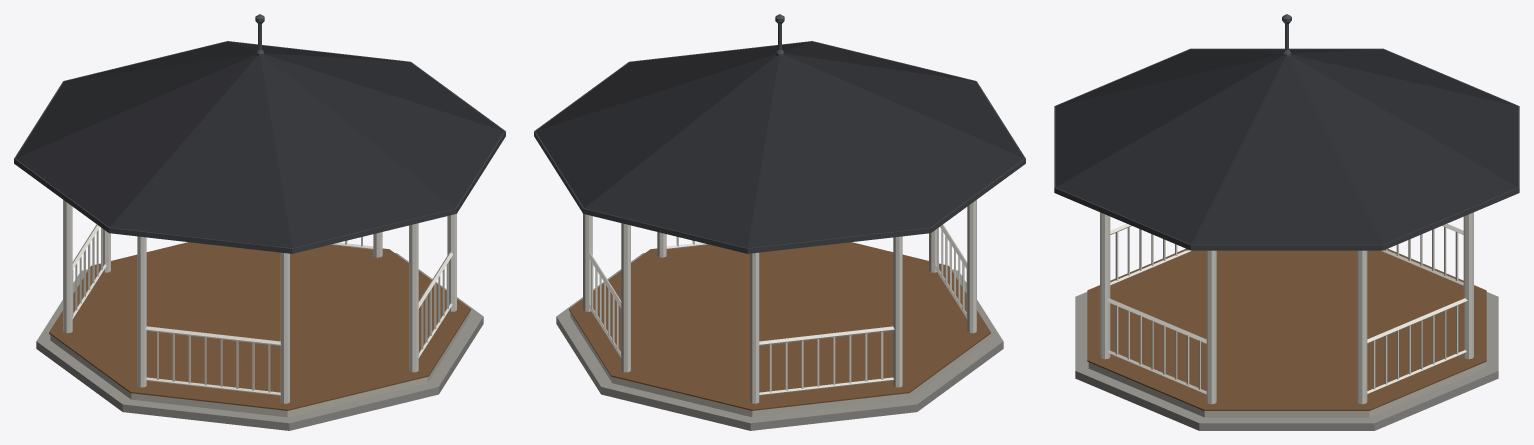
File: kiosque.glb
The picture shows the model from 3 angles, left to right: view 1: azimuth 30°, elevation 25°; view 2: azimuth 150°, elevation 25°; view 3: azimuth 270°, elevation 25°; orthographic projection.
Parts seen in each view (by area): view 1: roof, deck, base, posts, roof_edge, balusters, platform, rails, low_rails; view 2: roof, deck, base, posts, roof_edge, balusters, platform, rails, low_rails; view 3: roof, deck, base, posts, roof_edge, balusters, platform, low_rails, rails.
Part boxes in pixels (bbox=[...]): roof: bbox=[15, 41, 504, 248]; deck: bbox=[49, 242, 470, 410]; base: bbox=[36, 253, 483, 430]; posts: bbox=[63, 200, 456, 403]; roof_edge: bbox=[14, 41, 505, 253]; balusters: bbox=[72, 227, 448, 392]; platform: bbox=[50, 312, 469, 417]; rails: bbox=[72, 224, 453, 345]; low_rails: bbox=[72, 242, 452, 395]; roof: bbox=[535, 41, 1024, 248]; deck: bbox=[569, 242, 990, 410]; base: bbox=[556, 253, 1003, 430]; posts: bbox=[583, 200, 976, 403]; roof_edge: bbox=[534, 41, 1025, 253]; balusters: bbox=[591, 227, 967, 392]; platform: bbox=[570, 312, 989, 417]; rails: bbox=[586, 224, 967, 345]; low_rails: bbox=[587, 242, 967, 395]; roof: bbox=[1055, 49, 1518, 244]; deck: bbox=[1087, 248, 1486, 410]; base: bbox=[1075, 292, 1498, 430]; posts: bbox=[1100, 212, 1473, 404]; roof_edge: bbox=[1054, 48, 1519, 250]; balusters: bbox=[1115, 227, 1458, 389]; platform: bbox=[1088, 362, 1485, 417]; low_rails: bbox=[1107, 250, 1466, 394]; rails: bbox=[1106, 224, 1467, 343].
Size of the model in its own units: 6.5 by 5.05 by 6.5.
7 materials, 7 textured.
